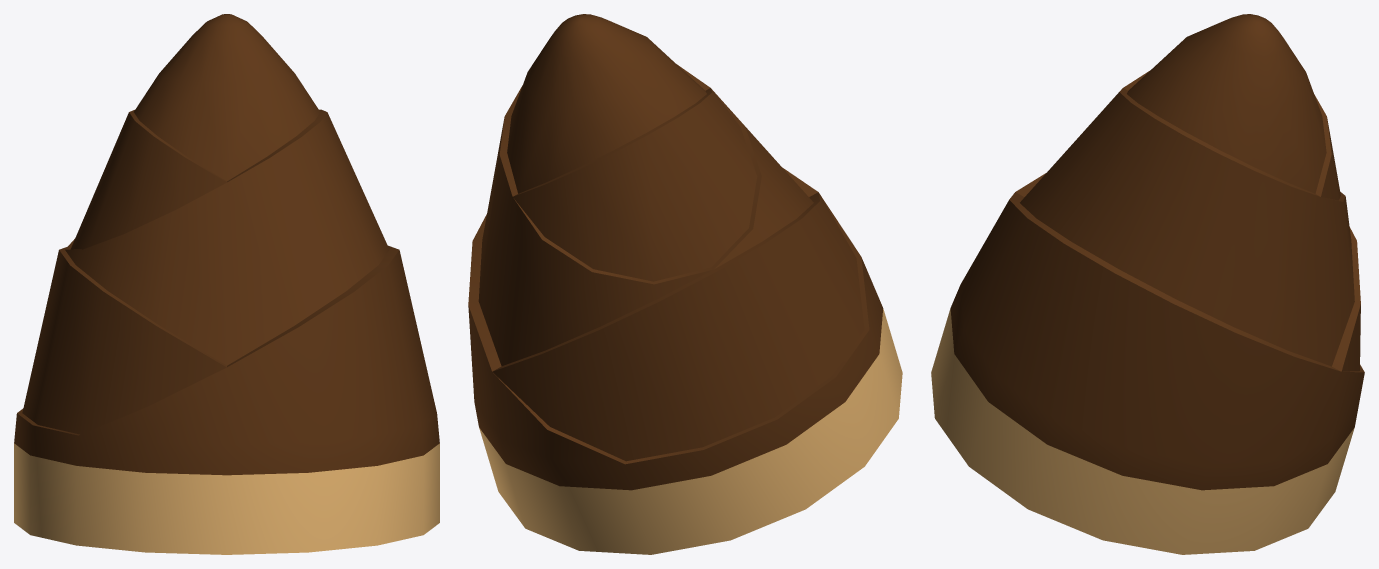
Rendered from takenoko.fbx.
3 renders of one model, left to right at view 1: azimuth 30°, elevation 25°; view 2: azimuth 150°, elevation 25°; view 3: azimuth 270°, elevation 25°, orthographic.
Parts seen in each view (by area): view 1: 平面|円.008|Dupli|7; view 2: 平面|円.008|Dupli|7; view 3: 平面|円.008|Dupli|7.
Part boxes in pixels (x1,y1,x2,y2): 平面|円.008|Dupli|7: (14,14,439,554); 平面|円.008|Dupli|7: (468,14,902,554); 平面|円.008|Dupli|7: (931,14,1364,554).
Size of the model in its own units: 12.45 by 15.99 by 12.63.
